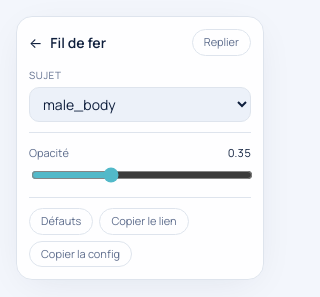
replier le panneau ne laisse que le canvas
What coordinates should you click on to do the following:
click the button "Replier"
I would click on:
 (221, 42)
Its box is top-left (192, 29), bottom-right (251, 56).
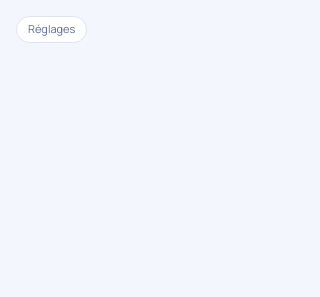
Expected: the label labelled "Opacité" is gone
Expected: the button "Réglages" is shown, top-left (16, 16), bottom-right (87, 42)
